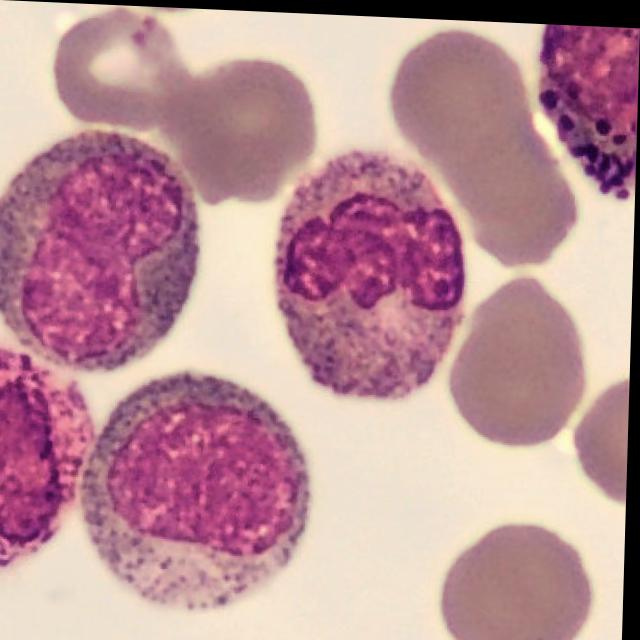Metamielocito: (0, 125, 202, 371)
Mielocito: (83, 370, 314, 609)
